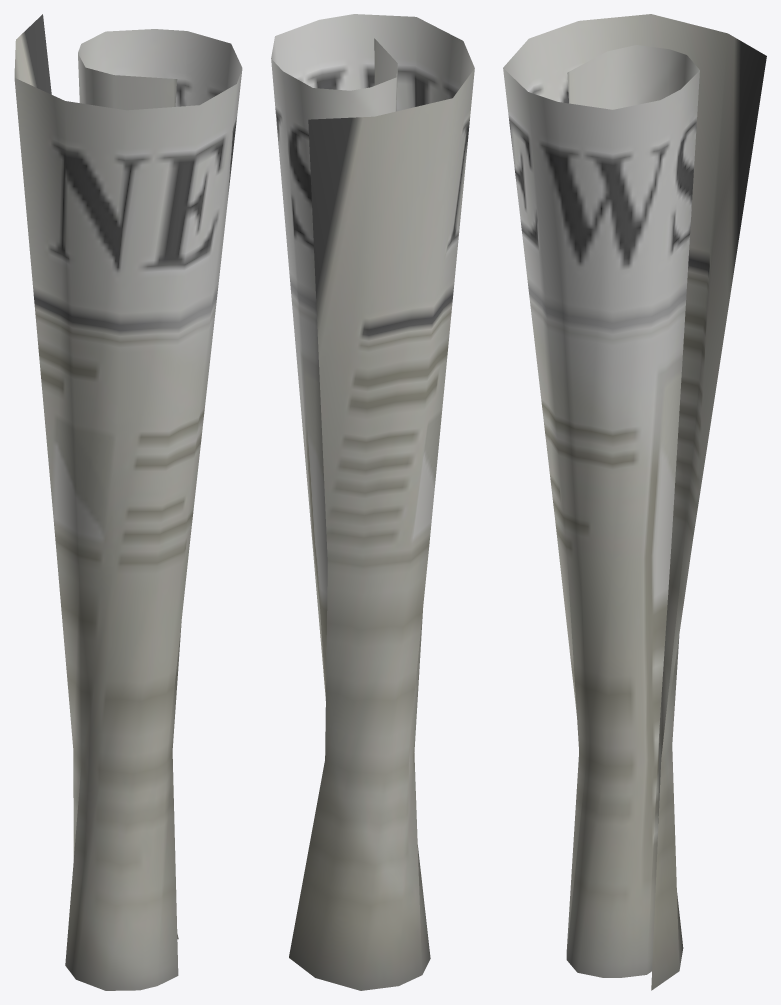
Rendered from GAZETE_RULO.fbx.
3 views of the same model, side by side, from view 1: azimuth 30°, elevation 25°; view 2: azimuth 150°, elevation 25°; view 3: azimuth 270°, elevation 25° (orthographic).
Visible parts, largest first — view 1: GAZETE_RULO; view 2: GAZETE_RULO; view 3: GAZETE_RULO.
Part boxes in pixels (box(x1,y1,x2,y2)): GAZETE_RULO: box(14, 14, 242, 990); GAZETE_RULO: box(271, 14, 474, 990); GAZETE_RULO: box(503, 14, 766, 990).
Bounding box in the file's own units: 8.26 × 36.05 × 9.61.
